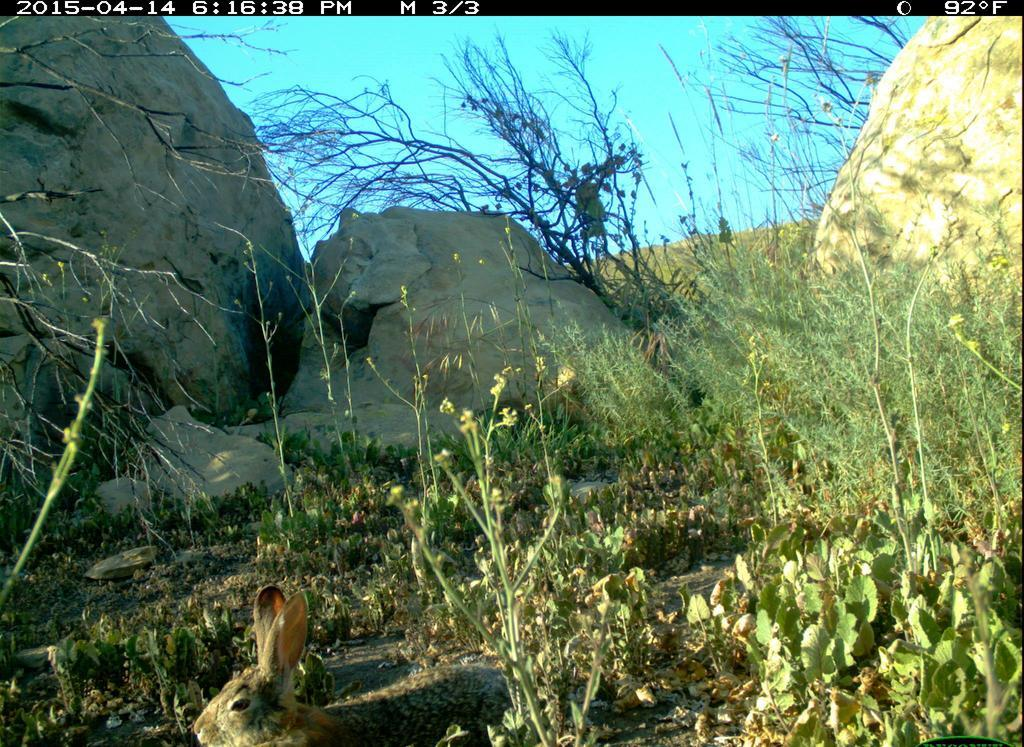rabbit: (166, 579, 529, 745)
